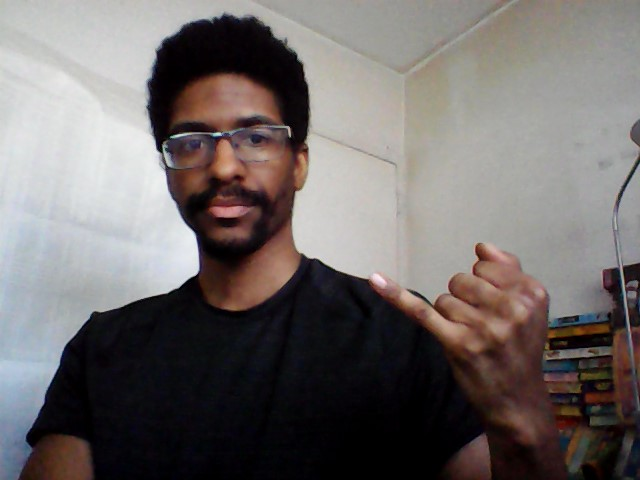j: (362, 233, 557, 426)
